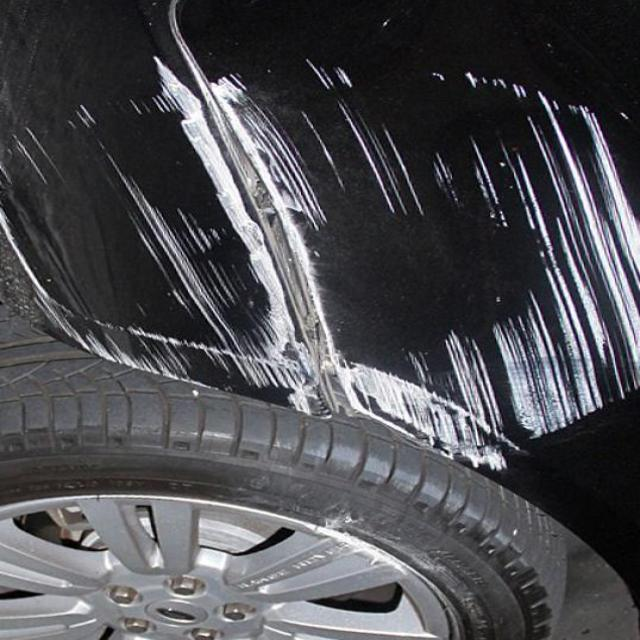scratch: (0, 60, 635, 428)
